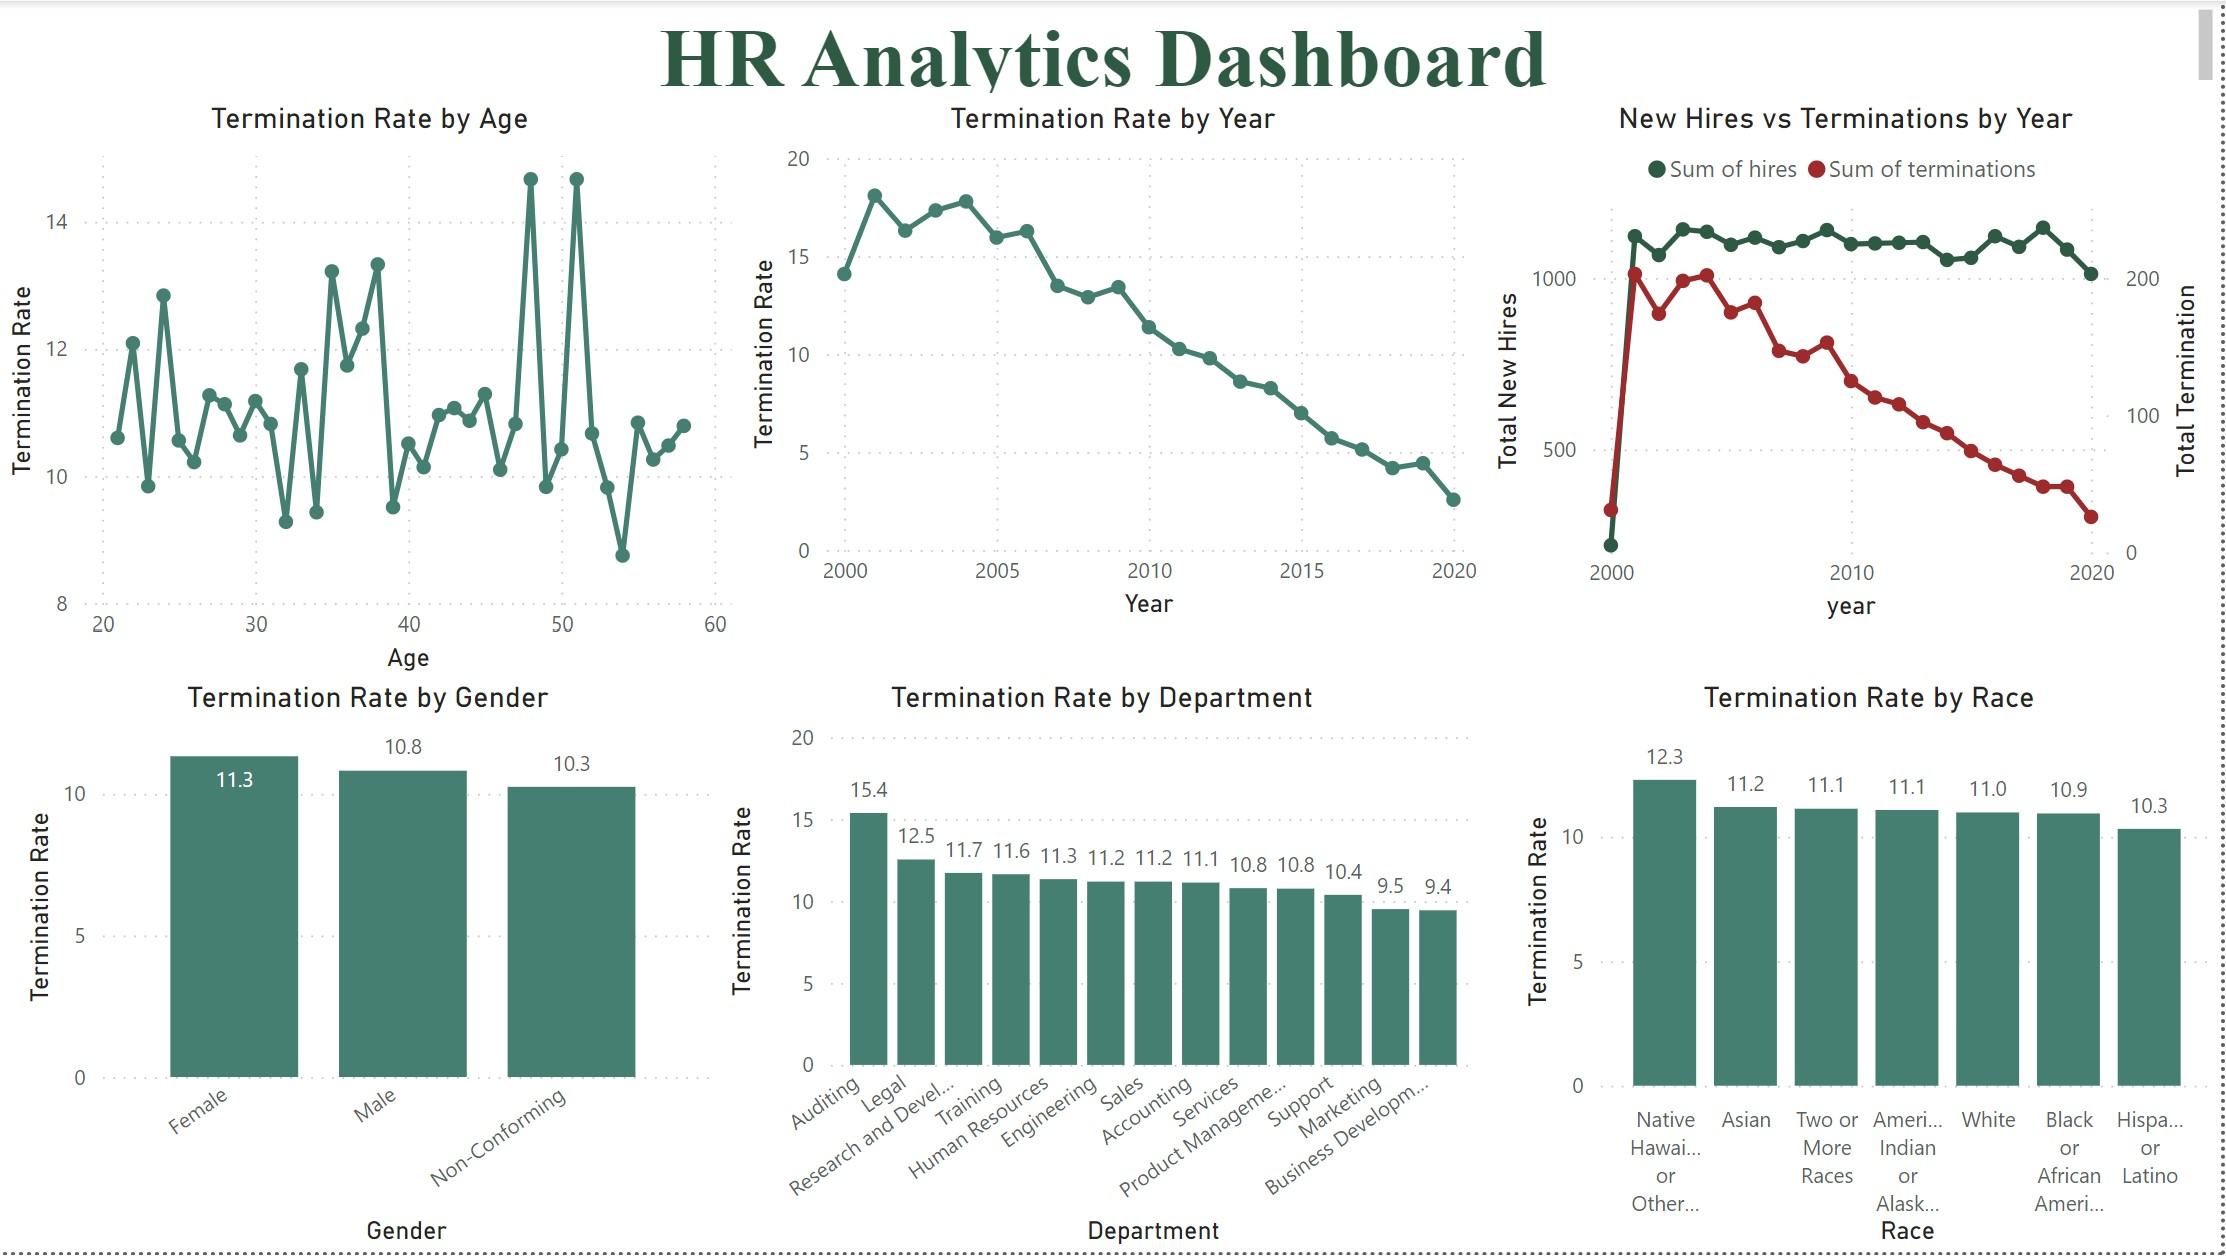

The page's visual inventory and layout, read from the dashboard file:
{"tool":"powerbi","page":{"name":"Page 3","canvas":[1280,720],"ordinal":2},"visuals":[{"type":"columnChart","title":"Termination Rate by Gender","fields":{"Category":["by gender.gender"],"Y":["Sum(by gender.termination_rate)"]},"box":[10.2,390.1,404.1,330.2],"z":0},{"type":"lineChart","title":"Termination Rate by Age","fields":{"Category":["by age.age"],"Y":["Sum(by age.termination_rate)"]},"box":[0,57.4,427.1,332.7],"z":1000},{"type":"columnChart","title":"Termination Rate by Department","fields":{"Category":["by department.department"],"Y":["Sum(by department.termination_rate)"]},"box":[414.3,390.1,441.1,330.2],"z":2000},{"type":"lineChart","title":"Termination Rate by Year","fields":{"Y":["Sum(by year.change_percent)"],"Category":["by year.year"]},"box":[427.1,57.4,428.4,302.2],"z":3000},{"type":"columnChart","title":"Termination Rate by Race","fields":{"Category":["by race.race"],"Y":["Sum(by race.termination_rate)"]},"box":[873.3,390.1,408,330.2],"z":4000},{"type":"lineChart","title":"New Hires vs Terminations by Year","fields":{"Category":["breakdown of emp count change.year"],"Y":["Sum(breakdown of emp count change.hires)"],"Y2":["Sum(breakdown of emp count change.terminations)"]},"box":[855.5,57.4,415.6,303.4],"z":5000},{"type":"textbox","box":[0,0,1280,57.4],"z":6000}]}

Visuals, with their boxes in screenshot pixels (x1, y1, x2, y2), scaled from the page's 1280x720 canvas onto the 2226x1256 screenshot:
"Termination Rate by Gender" columnChart: x1=18 y1=681 x2=720 y2=1255
"Termination Rate by Age" lineChart: x1=0 y1=100 x2=743 y2=681
"Termination Rate by Department" columnChart: x1=720 y1=681 x2=1488 y2=1255
"Termination Rate by Year" lineChart: x1=743 y1=100 x2=1488 y2=627
"Termination Rate by Race" columnChart: x1=1519 y1=681 x2=2225 y2=1255
"New Hires vs Terminations by Year" lineChart: x1=1488 y1=100 x2=2211 y2=629
textbox: x1=0 y1=0 x2=2225 y2=100
